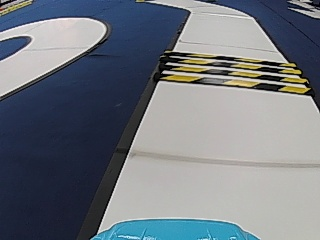bump: (165, 54, 280, 90)
